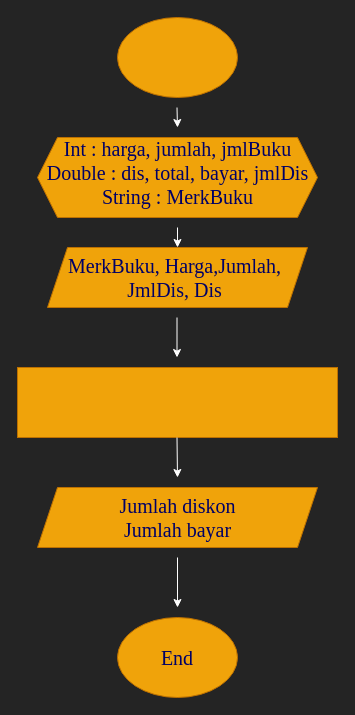
The diagram is 355 pixels wide and 715 high, and some of its shapes have lost their labels. The centre of each missing label's shape, as x and y in pixels:
"Start" goes at (177,57).
"total = harga*jumlah jmlDis = total*dis bayar = total-jmlDis" goes at (177,402).
